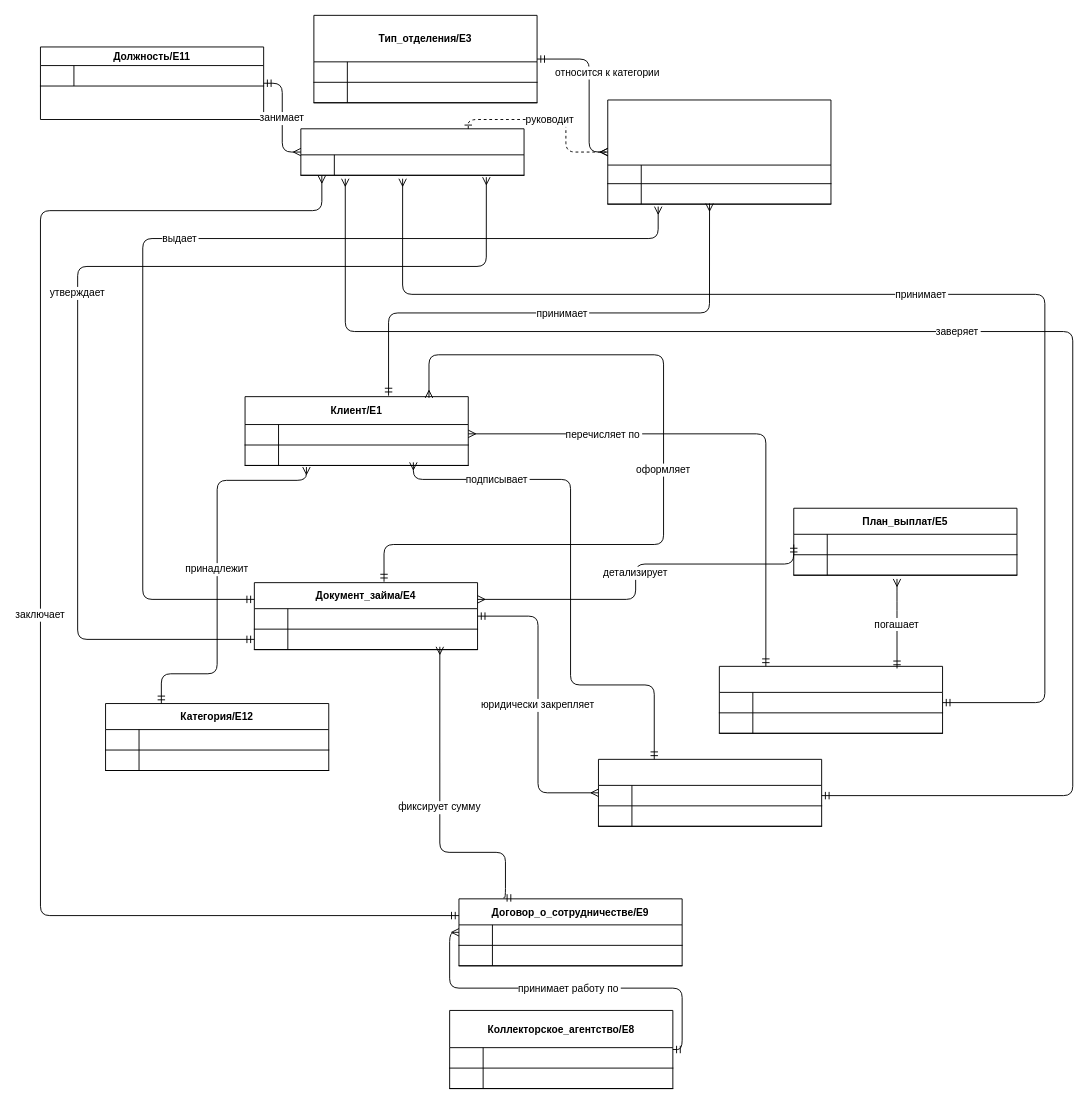
This 1088x1104 diagram has some shape labels left out. Here are the shapes that lost their labels. From the top down, the box of each, then its label:
(300, 128, 524, 175): Сотрудник/E10
(607, 99, 831, 204): Отделение/E2
(718, 665, 943, 733): Платёжный_документ/E6
(598, 758, 822, 826): Расписка/E7
